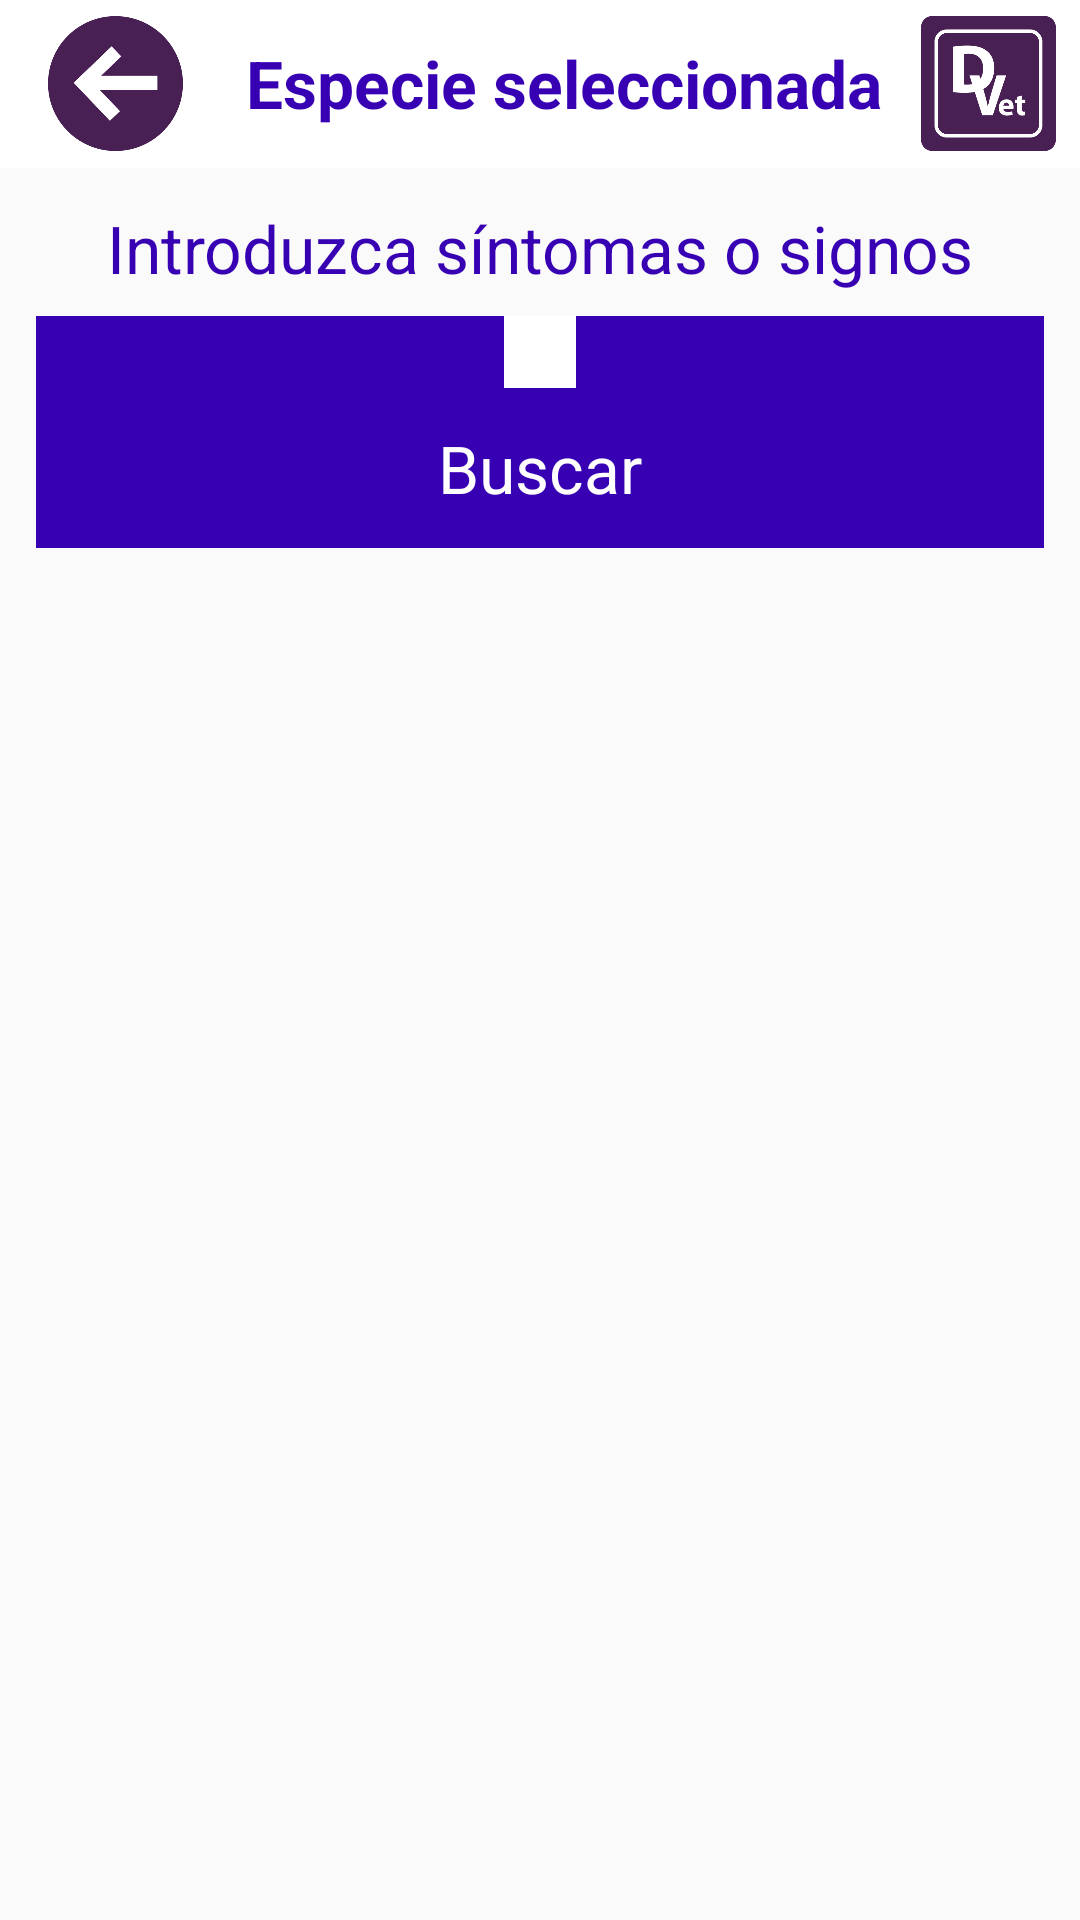

Icons on this 1080px×1920px Android screen, each with its box as (x1, y1, x2, y2):
back: (48, 16, 183, 151)
